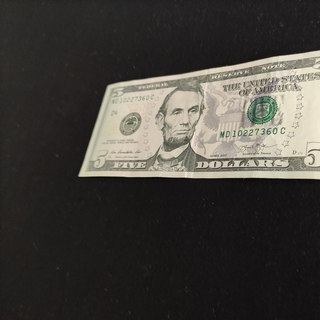5USDFront: (78, 44, 320, 181)
